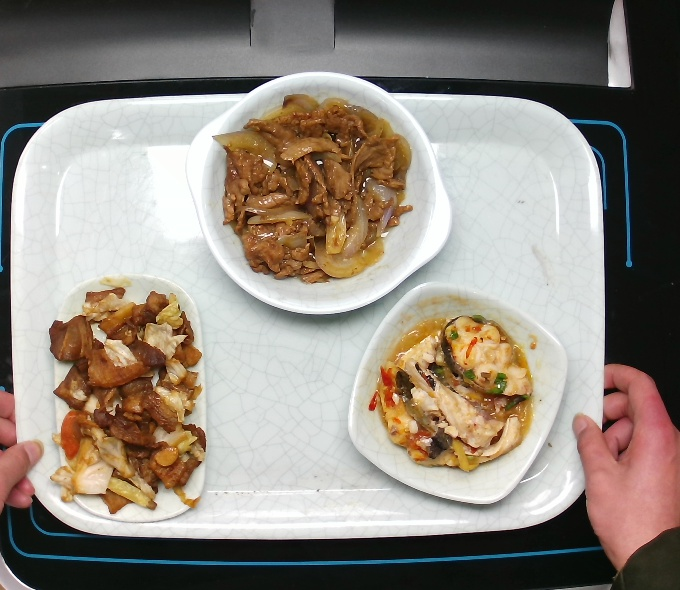wcq-DuoJiaoYuKuai: (372, 321, 528, 471)
wcq-PaoCaiRouPian: (54, 294, 206, 514)
wcq-YangCongRouPian: (229, 99, 417, 288)
